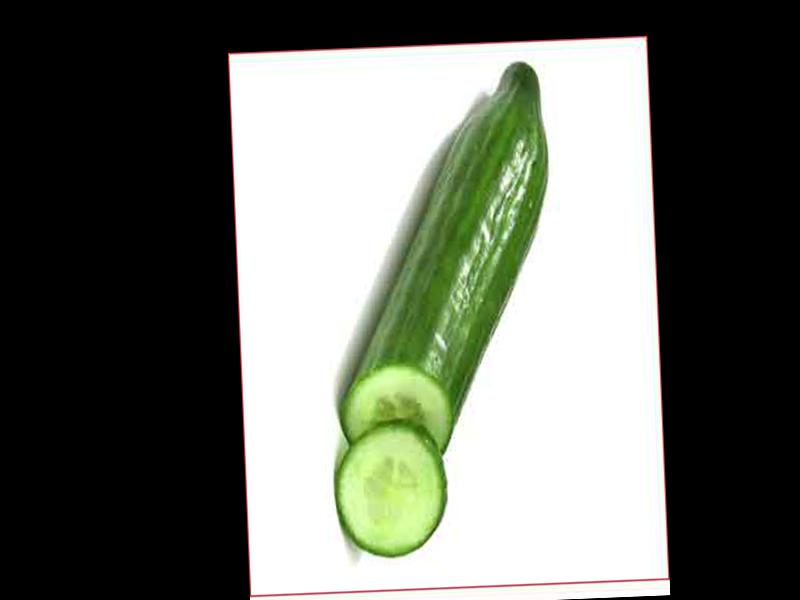Cucumber: (326, 60, 559, 465)
